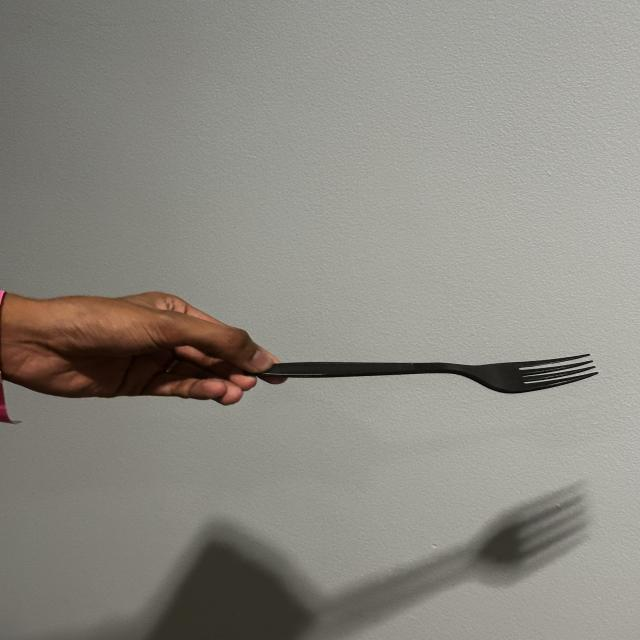fork: (227, 295, 606, 434)
